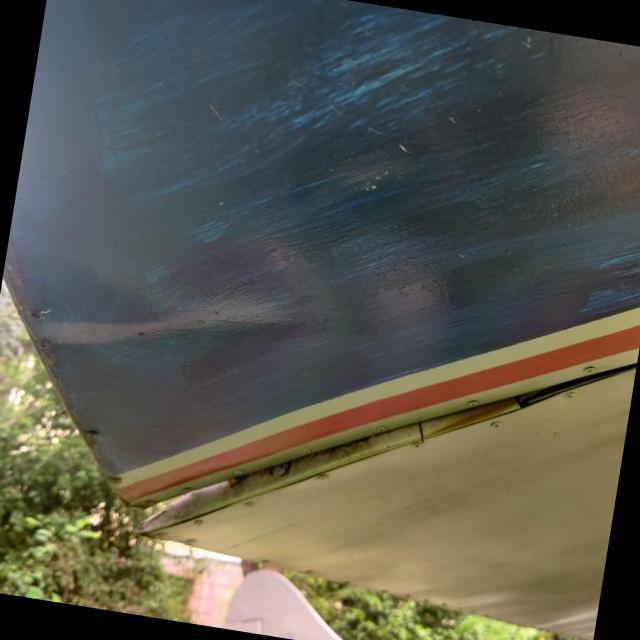Dent: (0, 209, 346, 434)
